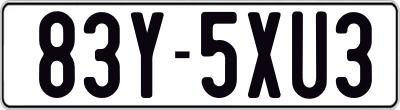3: (81, 11, 118, 103), (336, 12, 373, 103)
5: (201, 10, 239, 99)
8: (39, 9, 79, 97)
U: (290, 10, 330, 103)
X: (248, 10, 287, 98)
Y: (131, 11, 166, 102)
